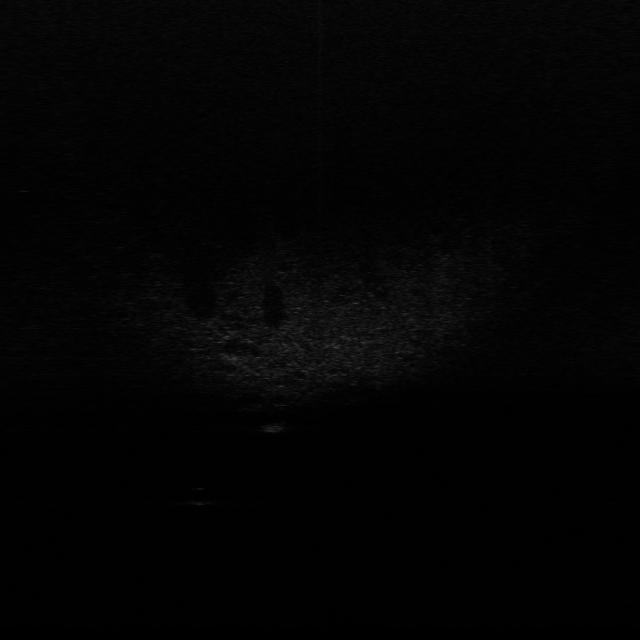ball: (184, 482, 213, 508)
cube: (257, 416, 289, 435)
